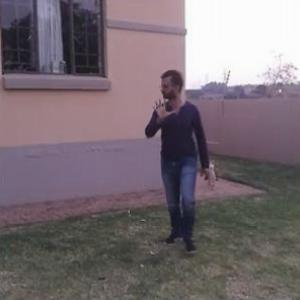follow_hand: (149, 94, 176, 124)
